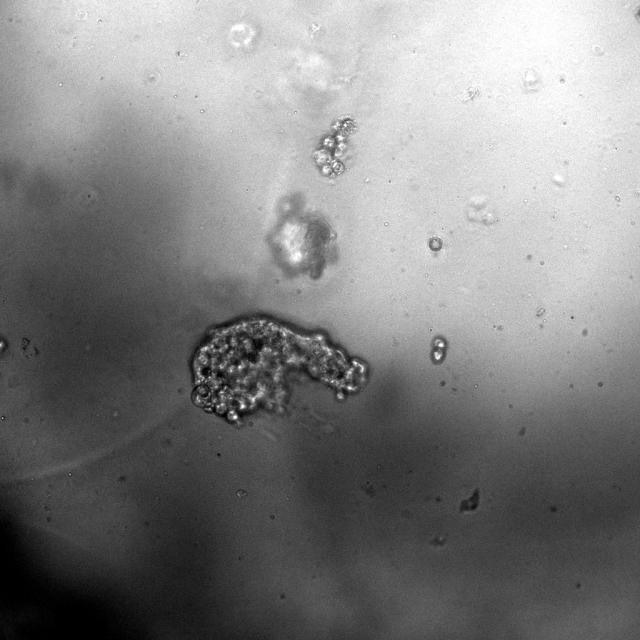organoid: (192, 316, 368, 422), (266, 192, 337, 279), (312, 116, 355, 178), (429, 336, 448, 364), (427, 235, 444, 253)
